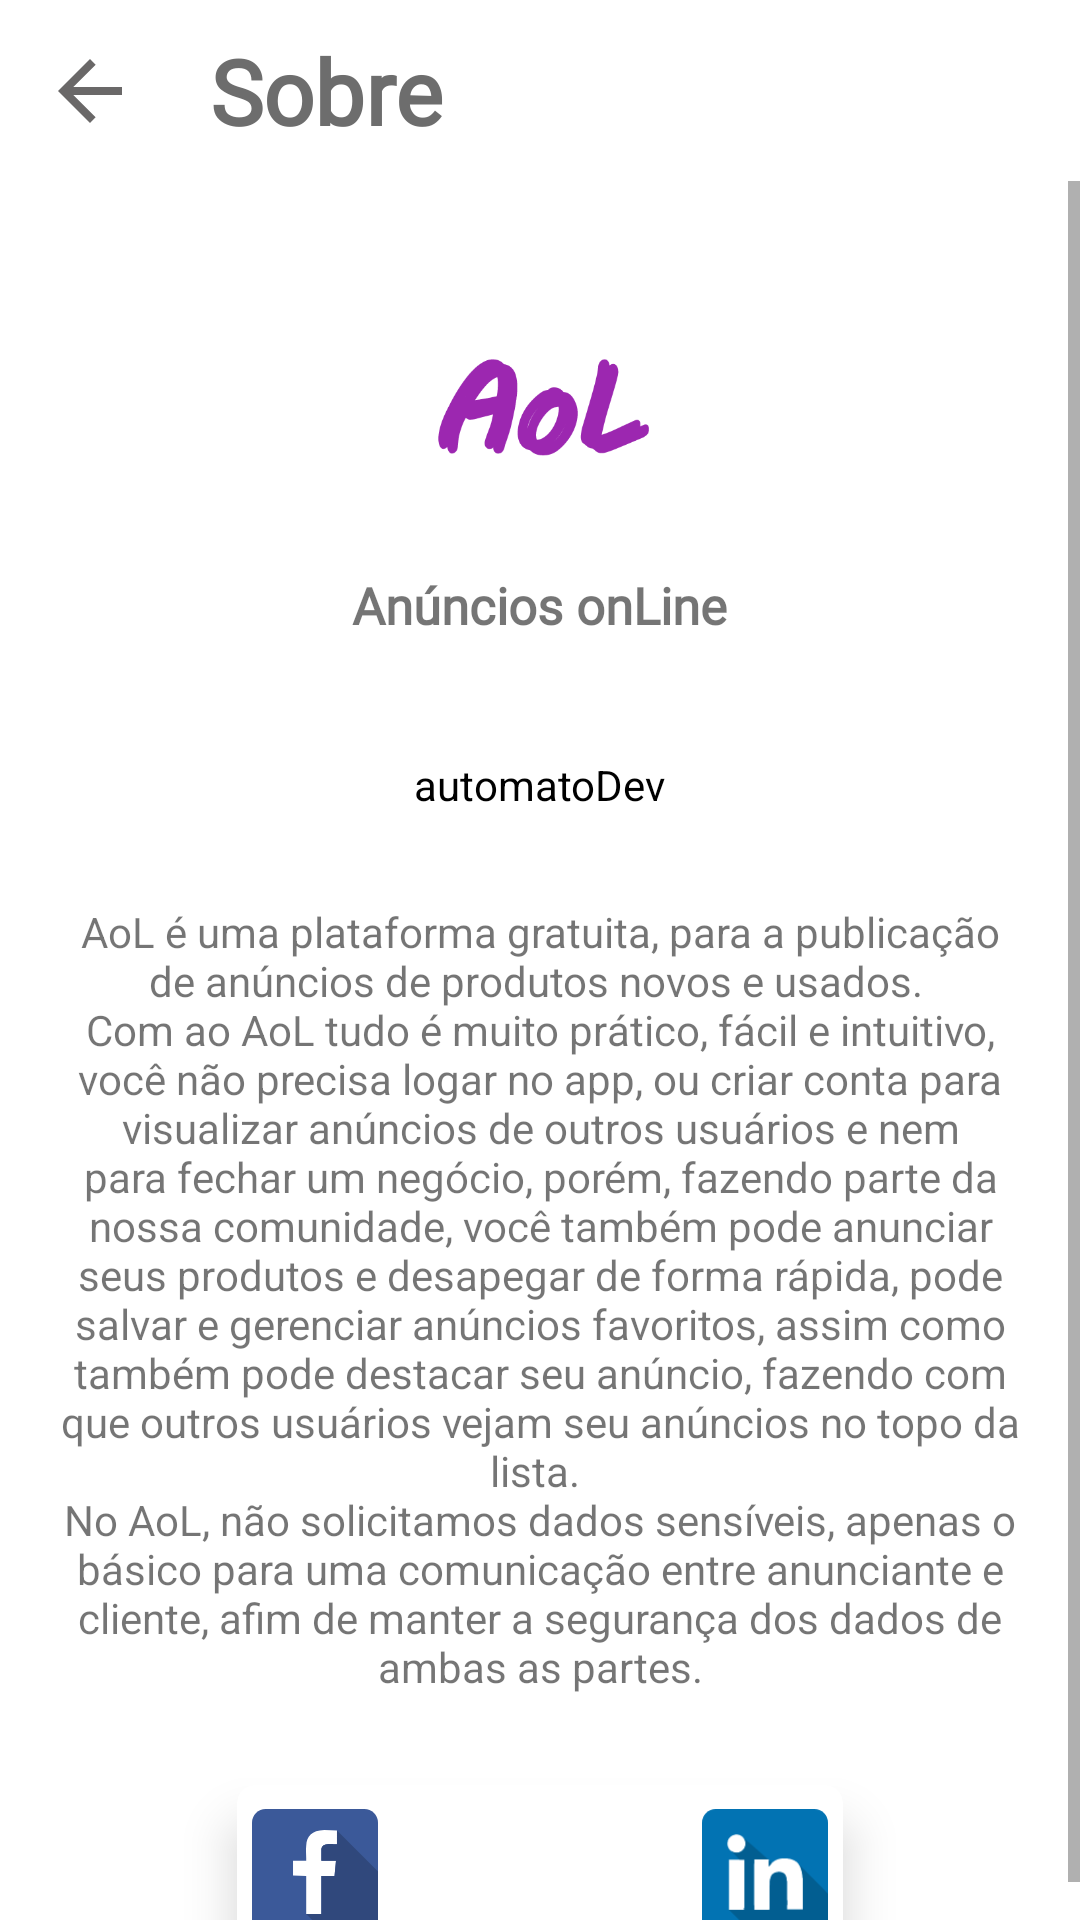

Named icons in this screenshot (1080x1920) and their bounding boxes, (left=x1, top=y1, right=x2, bottom=y2):
arrow back: (left=58, top=59, right=122, bottom=123)
